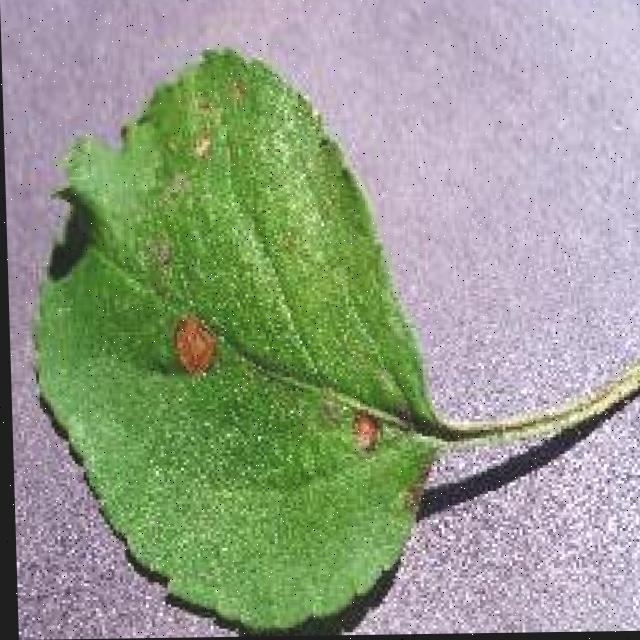black_rot: (333, 397, 395, 462), (159, 314, 217, 372)
